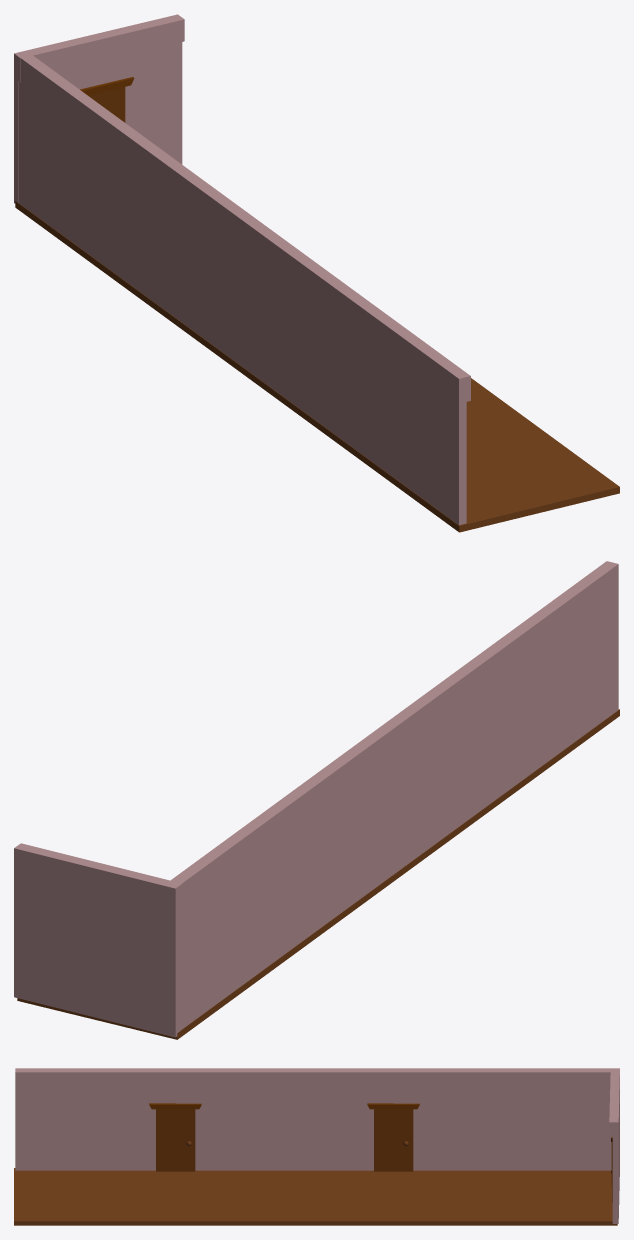
Rendered from hallway.fbx.
The picture shows the model from 3 angles, top to bottom: view 1: azimuth 30°, elevation 25°; view 2: azimuth 150°, elevation 25°; view 3: azimuth 270°, elevation 25°; orthographic projection. The views are drawn at different scales.
Visible parts, largest first — view 1: Cube, Cube.002, Cube.001, door; view 2: Cube, Cube.001, Cube.002; view 3: Cube, Cube.002, door.001, door.002, Cube.001, door frame.001, door frame.002.
Part boxes in pixels (x1=…): Cube: x1=18, y1=55, x2=470, y2=525; Cube.002: x1=15, y1=201, x2=619, y2=532; Cube.001: x1=14, y1=14, x2=184, y2=203; door: x1=89, y1=87, x2=125, y2=122; Cube: x1=170, y1=561, x2=618, y2=1030; Cube.001: x1=14, y1=843, x2=182, y2=1037; Cube.002: x1=17, y1=709, x2=619, y2=1039; Cube: x1=15, y1=1068, x2=611, y2=1170; Cube.002: x1=14, y1=1168, x2=617, y2=1225; door.001: x1=374, y1=1109, x2=413, y2=1171; door.002: x1=156, y1=1109, x2=195, y2=1171; Cube.001: x1=609, y1=1068, x2=619, y2=1223; door frame.001: x1=367, y1=1103, x2=419, y2=1109; door frame.002: x1=149, y1=1103, x2=201, y2=1109.
Size of the model in its own units: 192 by 172 by 908.
